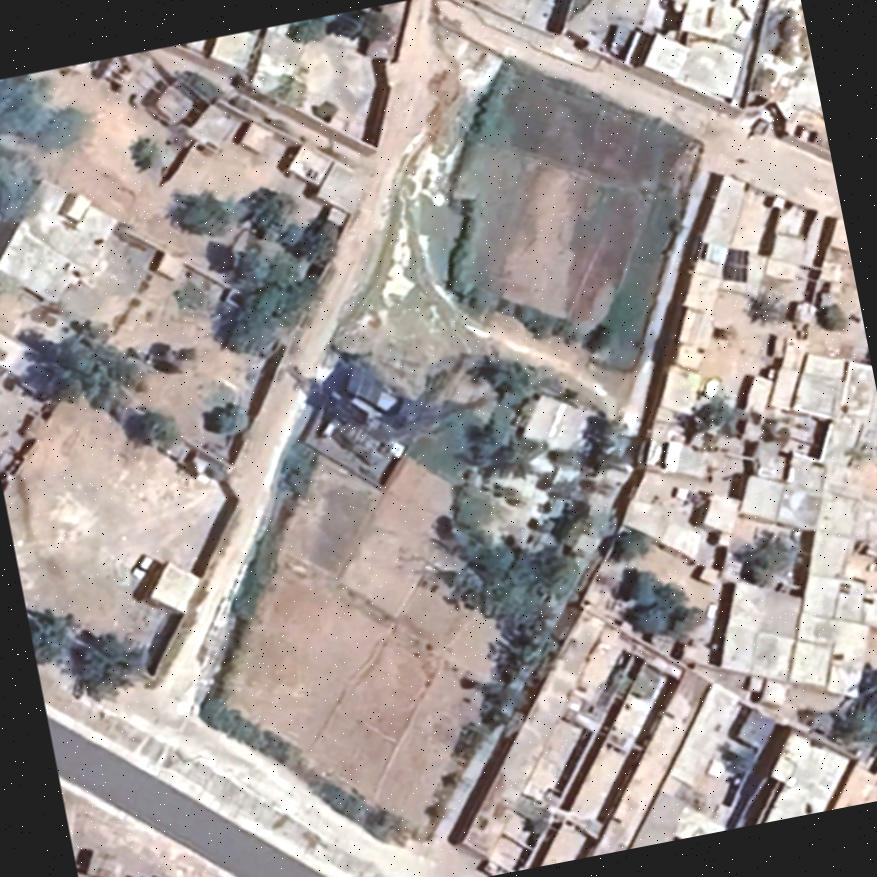Solarpanel: (716, 245, 750, 283)
